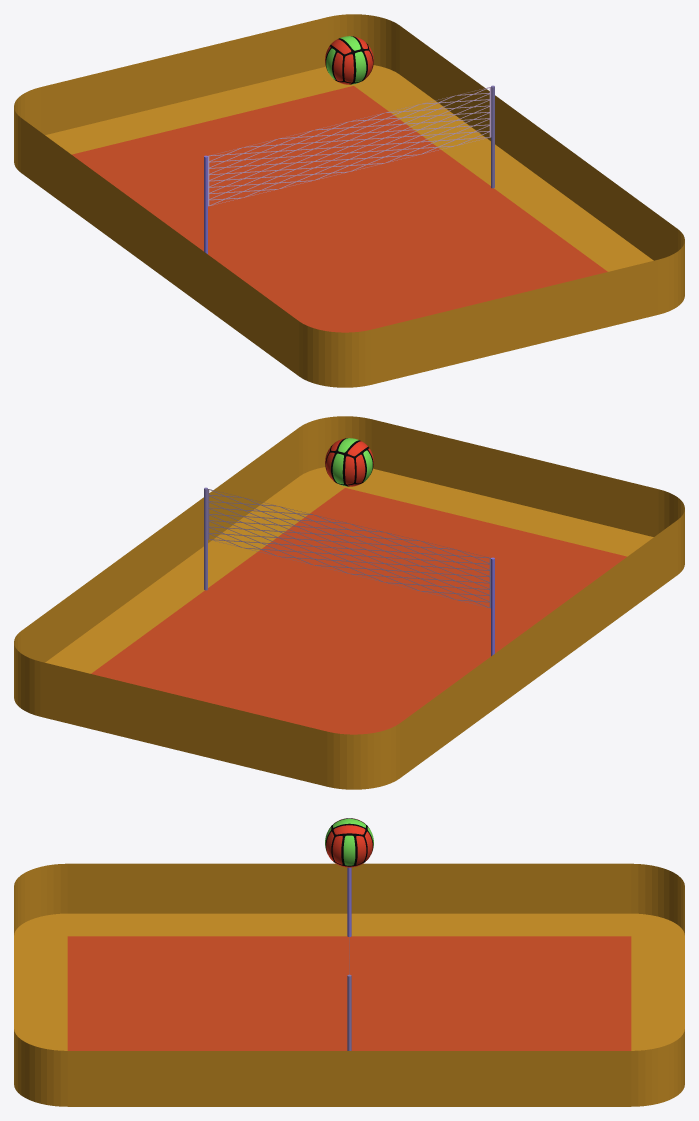
The model's file is voleybol.fbx.
3 views of the same model, one above another, from view 1: azimuth 30°, elevation 25°; view 2: azimuth 150°, elevation 25°; view 3: azimuth 270°, elevation 25° (orthographic).
Visible parts, largest first — view 1: Cube, Plane, Cube.001; view 2: Cube, Plane, Cube.001; view 3: Cube, Cube.001.
Boxes of the visible parts, x1=… form: Cube: x1=14, y1=14, x2=684, y2=387; Plane: x1=208, y1=87, x2=491, y2=206; Cube.001: x1=325, y1=36, x2=373, y2=84; Cube: x1=14, y1=416, x2=684, y2=789; Plane: x1=207, y1=489, x2=490, y2=608; Cube.001: x1=325, y1=438, x2=373, y2=486; Cube: x1=14, y1=863, x2=684, y2=1106; Cube.001: x1=325, y1=818, x2=373, y2=867.
Size of the model in its own units: 19587 by 9399 by 29678.
